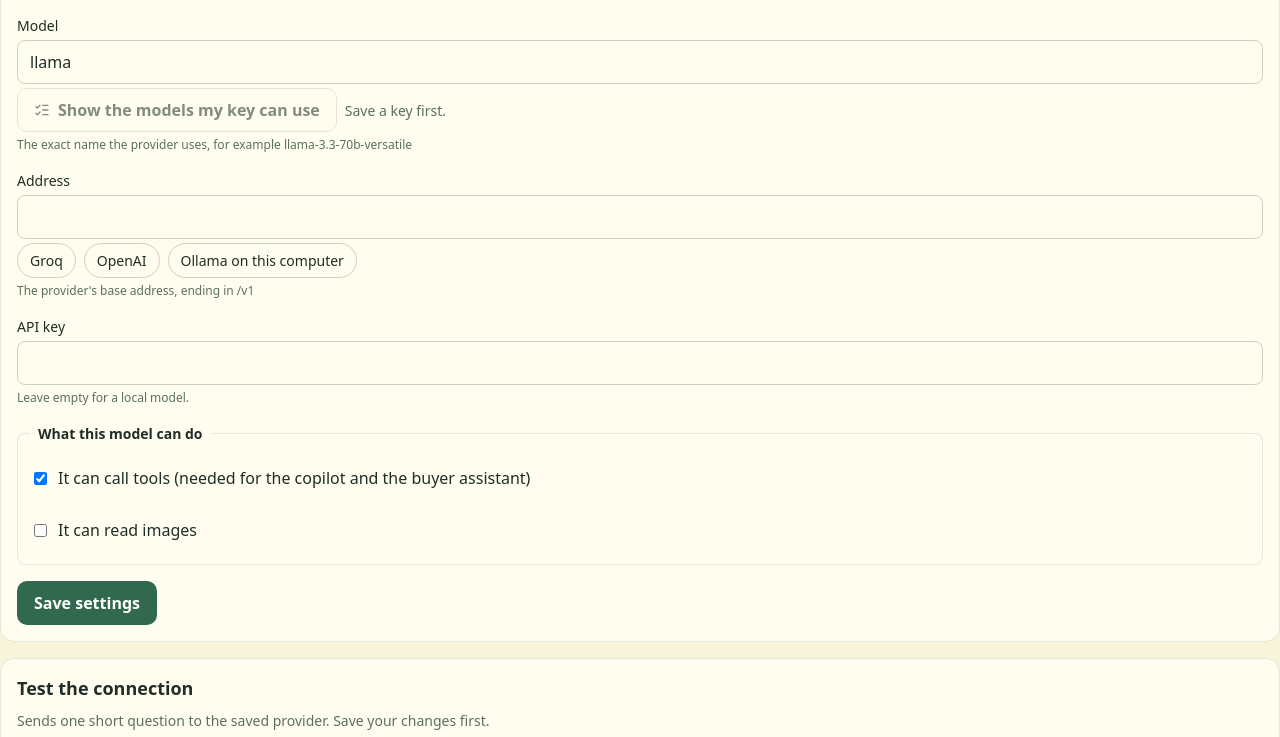
Test: AI settings › asks for the address when the provider is OpenAI-compatible and it is empty
The image size is (1280, 737).
(page scrolled)
Step 1. Click the button "Save settings" → (87, 603), box [17, 581, 157, 625]
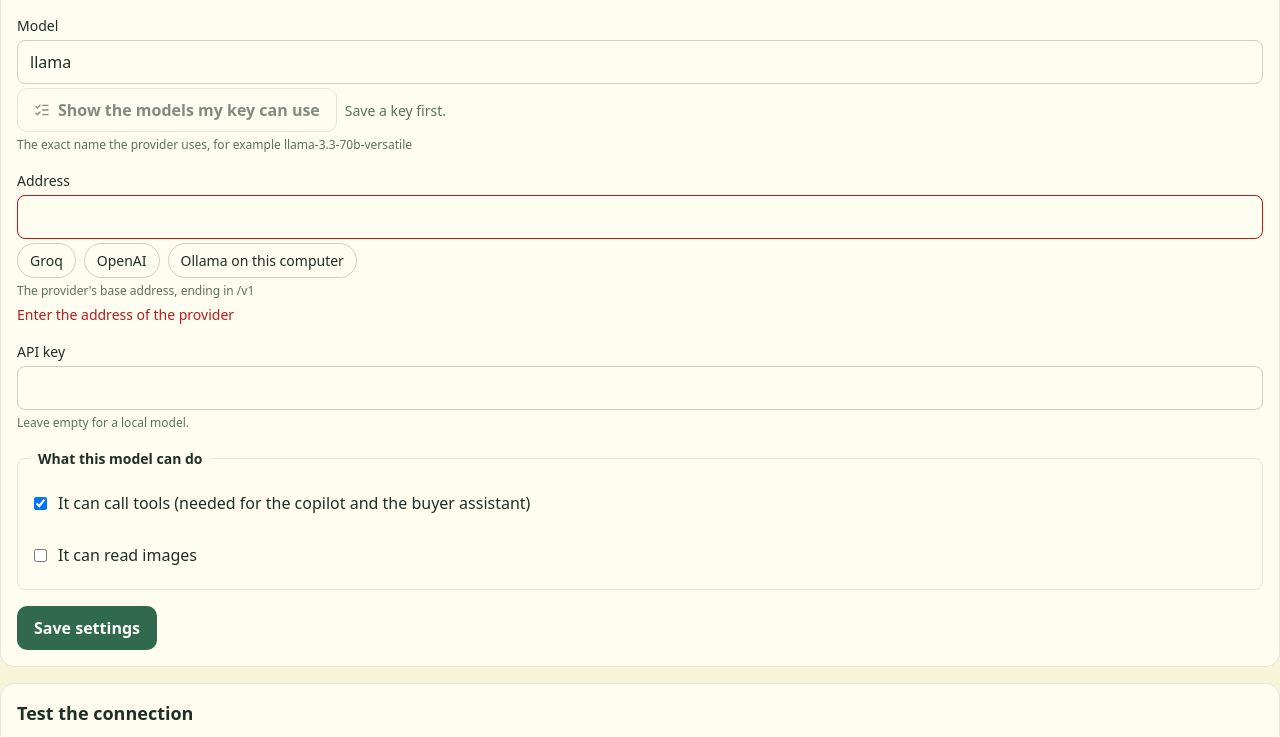
Now the text "Enter the address of the provider" is shown, box [17, 305, 234, 324]
